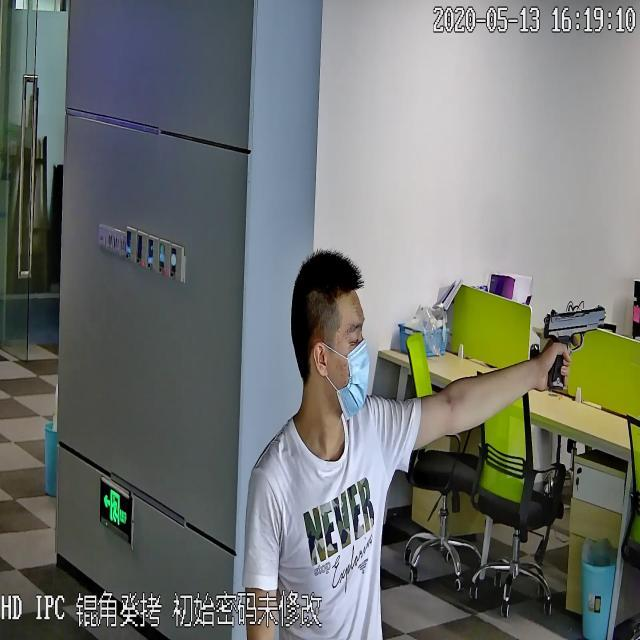gun: (533, 290, 617, 388)
